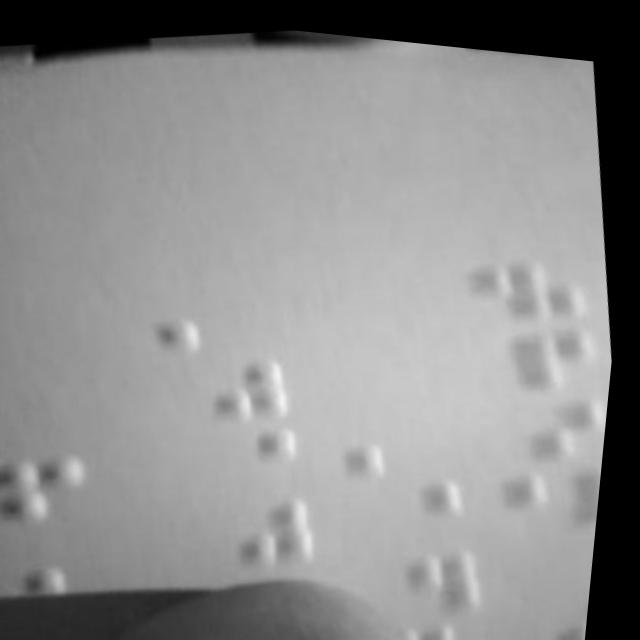braiile: (169, 335, 316, 437), (185, 409, 321, 500), (468, 238, 605, 324), (477, 305, 610, 393), (491, 378, 615, 460)
